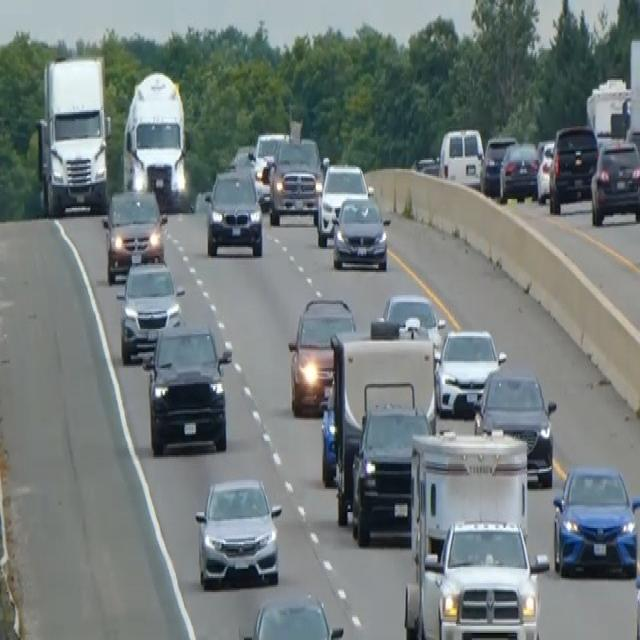car: (419, 516, 548, 638), (349, 378, 431, 546), (141, 318, 232, 455), (551, 462, 639, 580), (194, 474, 282, 588), (473, 366, 556, 486), (287, 295, 355, 414), (115, 254, 185, 364), (434, 325, 506, 418), (101, 185, 167, 283), (205, 167, 263, 258), (268, 135, 323, 226), (376, 291, 446, 361), (238, 592, 344, 638), (331, 190, 389, 270), (316, 160, 369, 245), (548, 123, 598, 213), (590, 137, 639, 226), (247, 130, 289, 206), (438, 126, 484, 188), (498, 140, 539, 202), (481, 134, 517, 196), (535, 138, 555, 202)
lorry: (34, 53, 111, 217)
truck: (121, 68, 189, 210)
